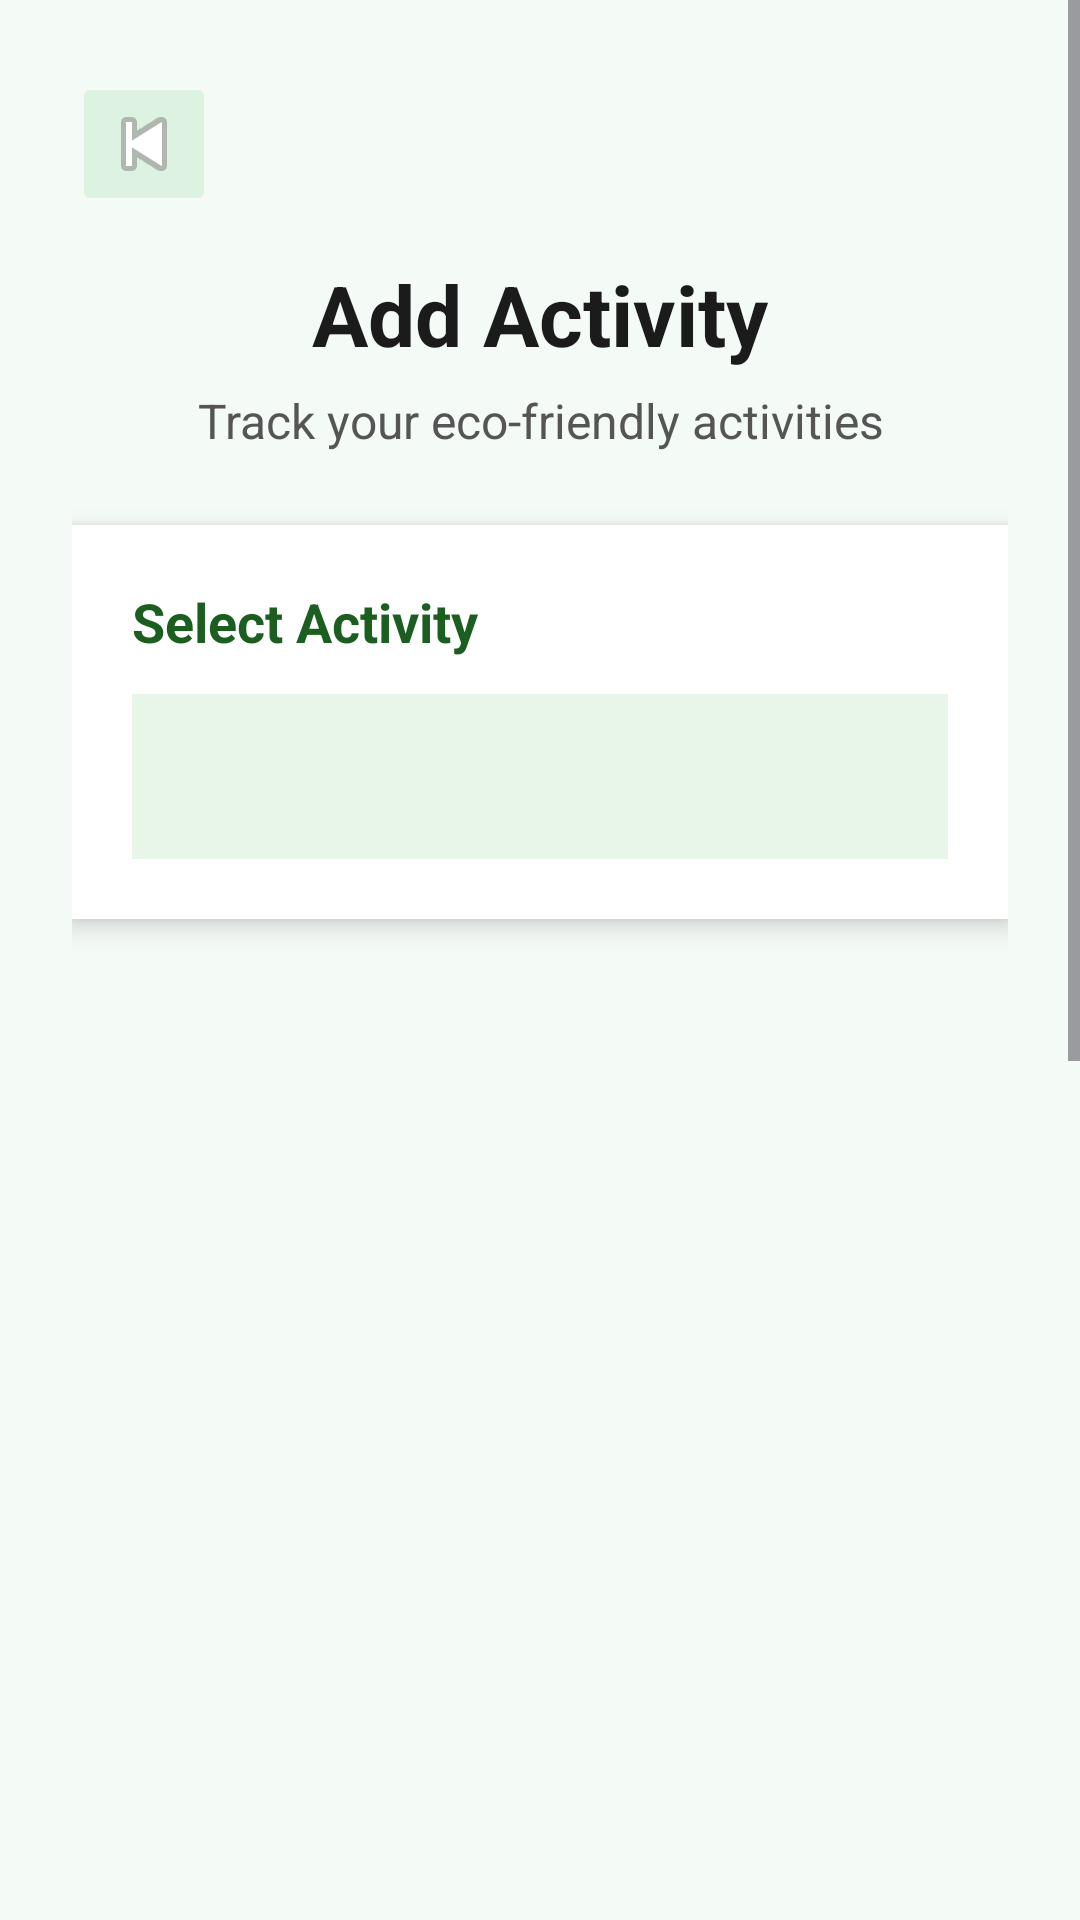

Named icons in this screenshot (1080 x 1920) and their centers, (x,y):
Back: (144,144)
